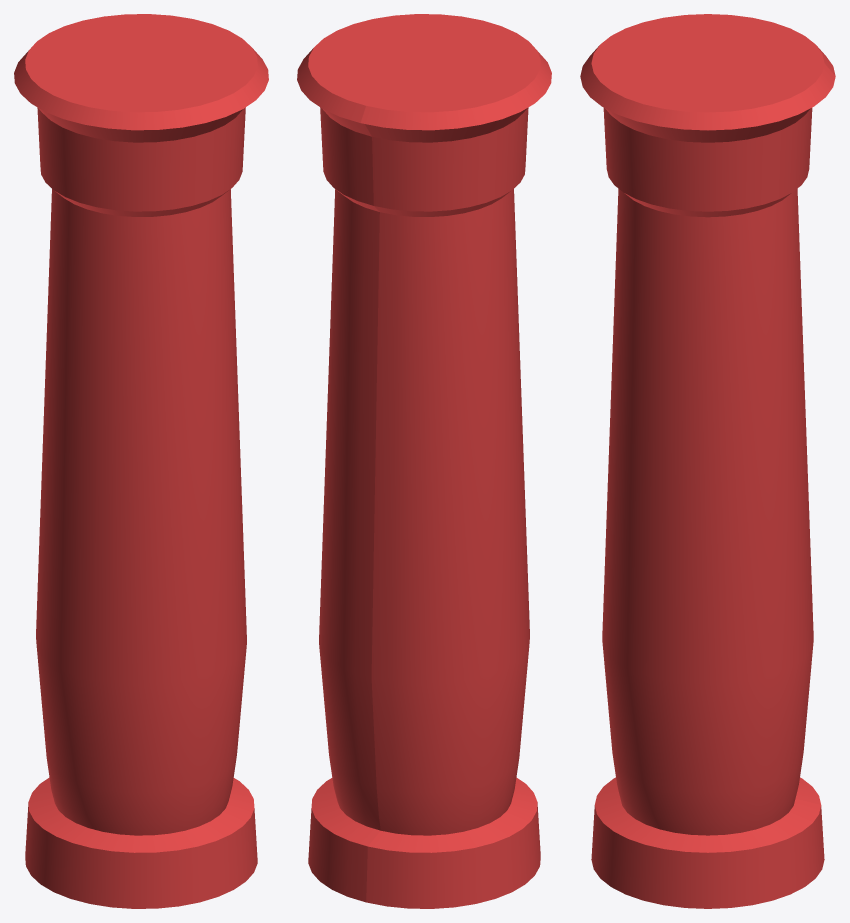
3 views of the same model, side by side, from view 1: azimuth 30°, elevation 25°; view 2: azimuth 150°, elevation 25°; view 3: azimuth 270°, elevation 25° (orthographic).
Parts seen in each view (by area): view 1: Colo_Full_Low; view 2: Colo_Full_Low; view 3: Colo_Full_Low.
Part boxes in pixels (<box>): Colo_Full_Low: <box>14,14,268,908</box>; Colo_Full_Low: <box>297,14,551,908</box>; Colo_Full_Low: <box>580,14,835,908</box>.
Bounding box in the file's own units: 262 × 902 × 262.
